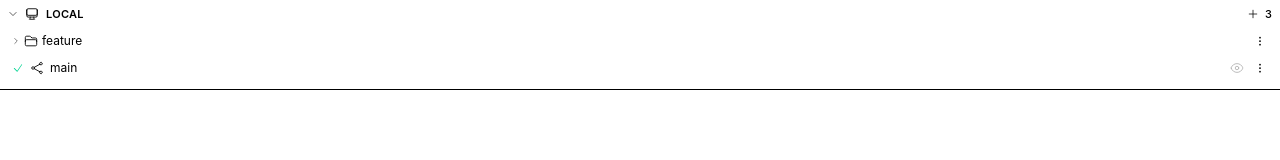
Test case: LocalBranchesSection › expands and collapses nested branch folders
Expected: the button "login" is not shown
Click the button "feature": coordinates (62, 40) [42, 32, 1248, 48]
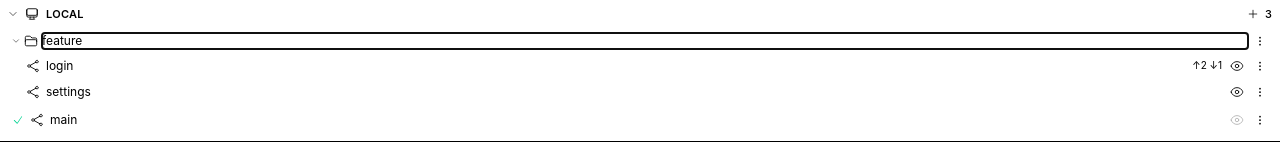
Expected: the button "login" is shown, [46, 58, 1186, 74]
Click the button "feature": coordinates (62, 40) [42, 32, 1248, 48]
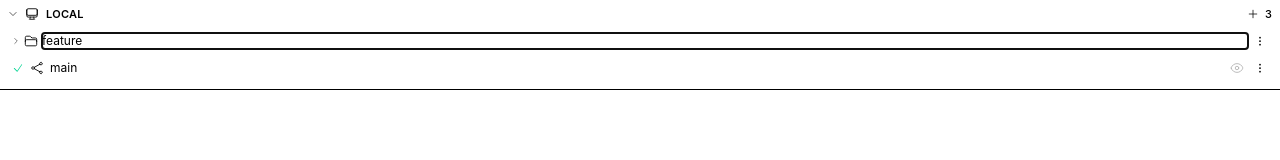
Expected: the button "login" is gone
